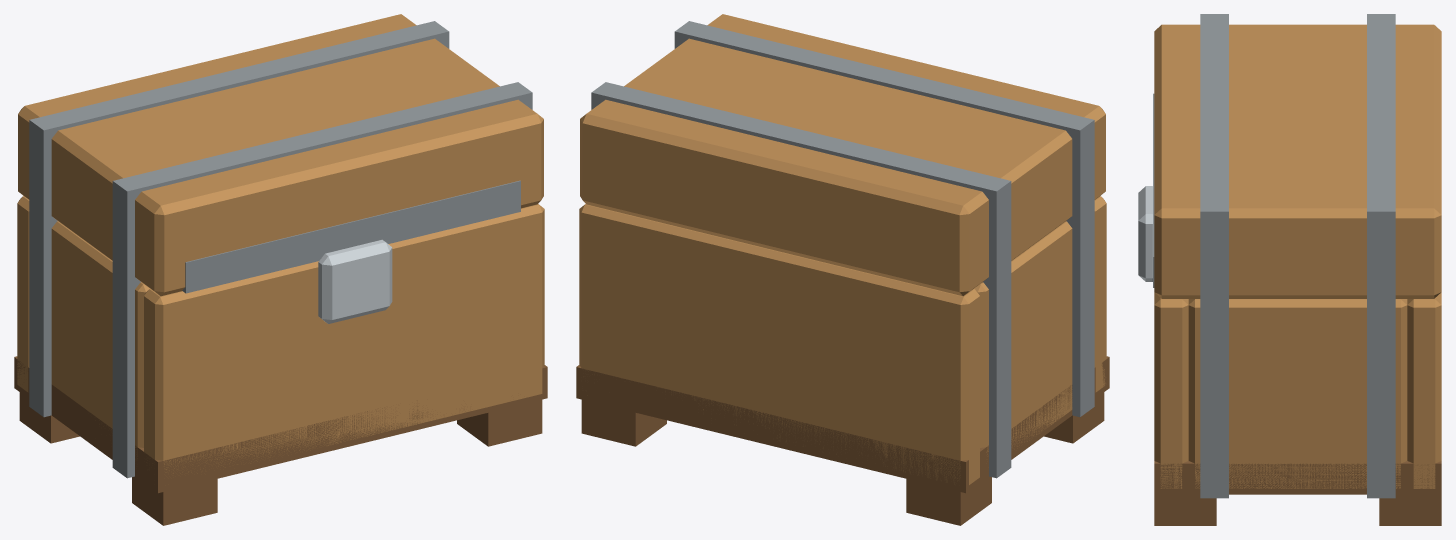
Rendered from loot_chest_small_closed.glb.
The picture shows the model from 3 angles, left to right: view 1: azimuth 30°, elevation 25°; view 2: azimuth 150°, elevation 25°; view 3: azimuth 270°, elevation 25°; orthographic projection.
Parts seen in each view (by area): view 1: Small_Lid, Small_Body_Front, Small_Body_Left, Small_Body_Floor, Small_Lid_Lip, Small_Lid_Band_2, Small_Lid_Band_1, Small_Lock, Small_Band_2, Small_Band_1, Small_Foot_1, Small_Foot_2 (+2 smaller); view 2: Small_Lid, Small_Body_Back, Small_Body_Floor, Small_Body_Left, Small_Lid_Band_1, Small_Lid_Band_2, Small_Band_2, Small_Band_1, Small_Foot_3, Small_Foot_4, Small_Body_Front, Small_Foot_1; view 3: Small_Lid, Small_Body_Right, Small_Lid_Band_2, Small_Lid_Band_1, Small_Body_Floor, Small_Body_Back, Small_Body_Front, Small_Band_1, Small_Band_2, Small_Foot_2, Small_Foot_4, Small_Lock (+1 smaller).
Part boxes in pixels (x1,y1,x2,y2): Small_Lid: (18, 14, 543, 296); Small_Body_Front: (144, 204, 544, 473); Small_Body_Left: (51, 221, 149, 459); Small_Body_Floor: (14, 356, 547, 493); Small_Lid_Lip: (182, 180, 520, 293); Small_Lid_Band_2: (29, 21, 449, 227); Small_Lid_Band_1: (112, 82, 532, 286); Small_Lock: (318, 239, 392, 323); Small_Band_2: (29, 215, 55, 417); Small_Band_1: (112, 277, 139, 478); Small_Foot_1: (132, 476, 217, 525); Small_Foot_2: (457, 399, 542, 446); Small_Lid: (580, 14, 1105, 296); Small_Body_Back: (579, 204, 979, 484); Small_Body_Floor: (576, 356, 1109, 493); Small_Body_Left: (974, 221, 1072, 456); Small_Lid_Band_1: (674, 21, 1094, 227); Small_Lid_Band_2: (591, 82, 1011, 289); Small_Band_2: (984, 275, 1011, 478); Small_Band_1: (1070, 215, 1094, 417); Small_Foot_3: (906, 476, 991, 525); Small_Foot_4: (581, 399, 666, 446); Small_Body_Front: (1094, 196, 1106, 392); Small_Foot_1: (1044, 392, 1104, 443); Small_Lid: (1154, 24, 1441, 298); Small_Body_Right: (1188, 299, 1407, 488); Small_Lid_Band_2: (1367, 14, 1395, 309); Small_Lid_Band_1: (1200, 14, 1228, 309); Small_Body_Floor: (1154, 461, 1441, 494); Small_Body_Back: (1407, 292, 1441, 488); Small_Body_Front: (1154, 292, 1188, 488); Small_Band_1: (1200, 306, 1228, 498); Small_Band_2: (1367, 306, 1395, 498); Small_Foot_2: (1154, 494, 1216, 525); Small_Foot_4: (1379, 494, 1441, 525); Small_Lock: (1138, 186, 1152, 281).
Bounding box in the file's own units: 0.7488 × 0.5664 × 0.4855.
